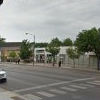crosswalk: (24, 79, 99, 100)
